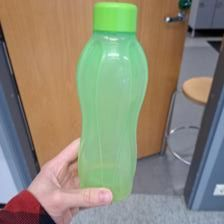bottle: (75, 3, 150, 200)
